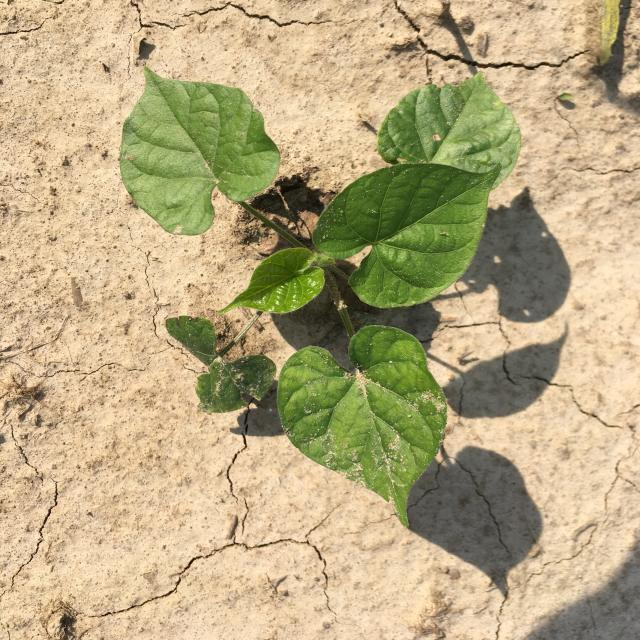MorningGlory: (118, 65, 523, 529)
